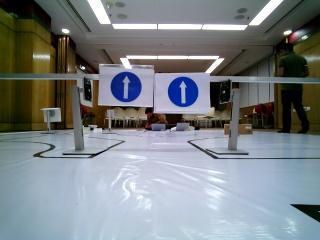straight: (156, 71, 210, 114), (103, 66, 149, 104)
